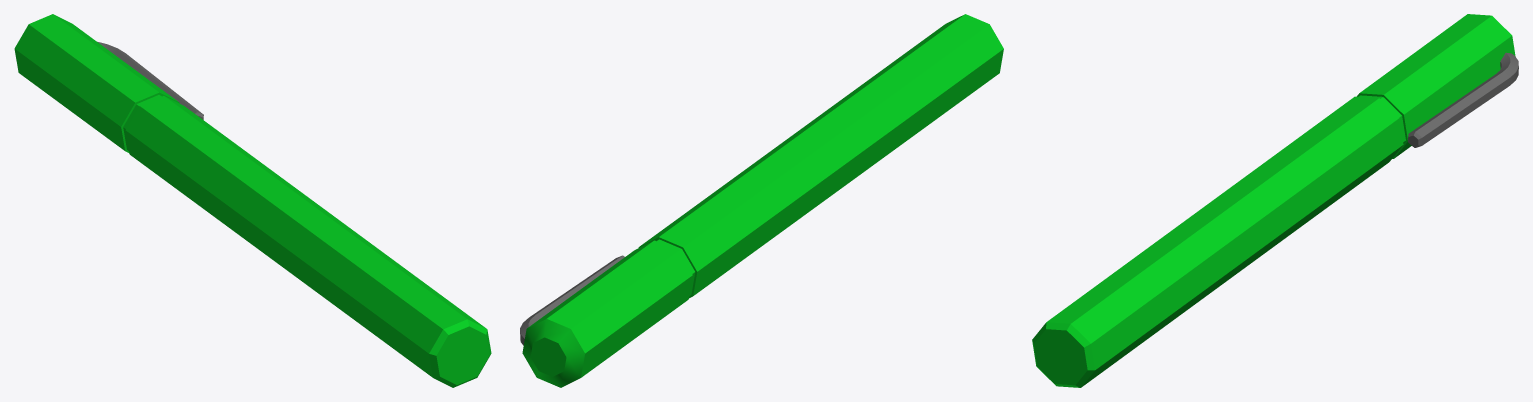
File: Lapiz07.fbx
The picture shows the model from 3 angles, left to right: view 1: azimuth 30°, elevation 25°; view 2: azimuth 150°, elevation 25°; view 3: azimuth 330°, elevation 25°; orthographic projection.
Visible parts, largest first — view 1: Lapiz07; view 2: Lapiz07; view 3: Lapiz07.
Boxes of the visible parts, left/top/right/bottom form: Lapiz07: left=14, top=14, right=491, bottom=387; Lapiz07: left=520, top=14, right=1003, bottom=387; Lapiz07: left=1032, top=14, right=1518, bottom=387.
Size of the model in its own units: 2.08 by 1.55 by 18.01.
